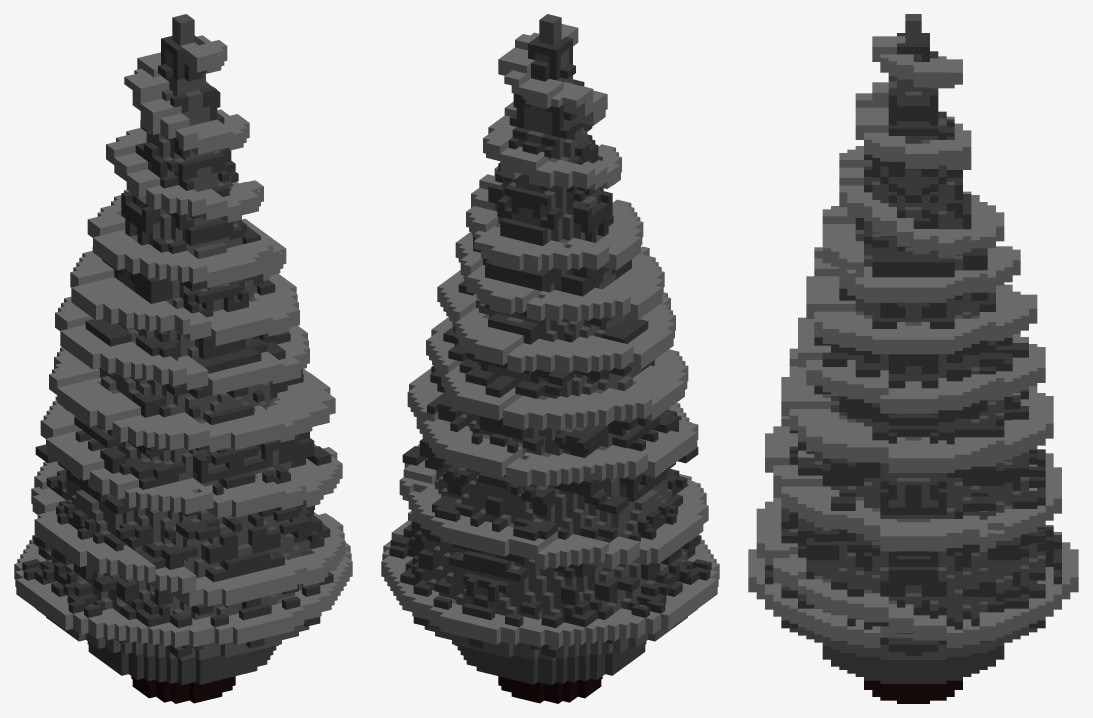
The model's file is Bohrer only drill.obj.
3 renders of one model, left to right at view 1: azimuth 30°, elevation 25°; view 2: azimuth 150°, elevation 25°; view 3: azimuth 270°, elevation 25°, orthographic.
Bounding box in the file's own units: 4 × 8.9 × 4.
1 material, 1 textured.
